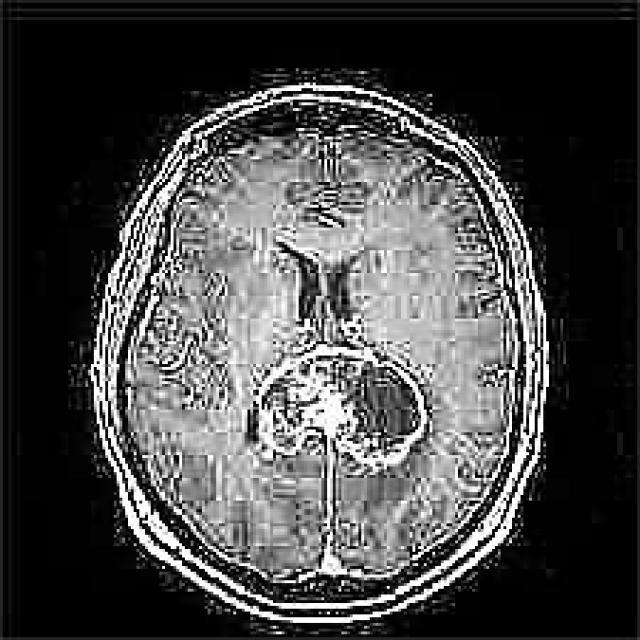brain tumor: (247, 347, 427, 478)
